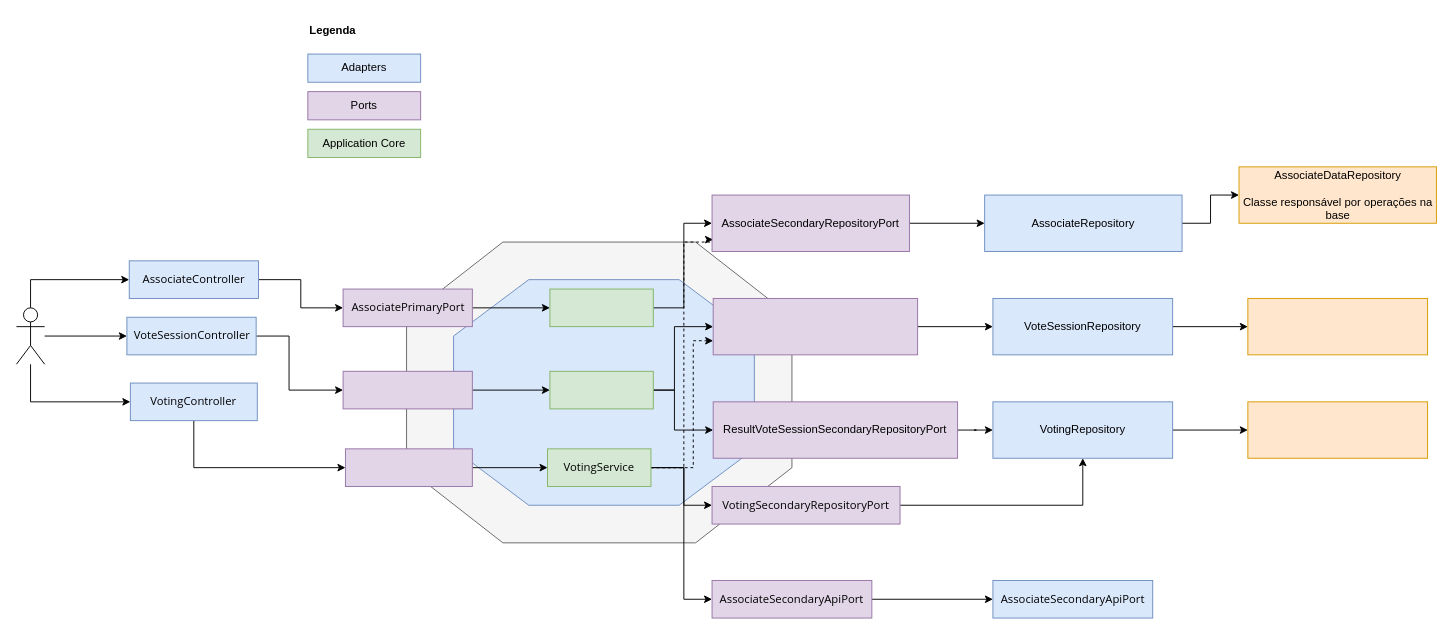
Image size: 1453x635. Some labels were removed from this diagram. Here are the shapes that lost their labels. From the top down, the centre of each, then its label:
At point 601,307: "AssociateService".
At point 815,326: "VoteSessionSecondaryRepositoryPort".
At point 1337,326: "VoteSessionDataRepository Classe responsável por operações na base".
At point 30,335: "Actor".
At point 407,389: "VoteSessionPrimaryPort".
At point 601,389: "VoteSessionService".
At point 1337,429: "VotingDataRepository Classe responsável por operações na base".
At point 408,467: "VotingPrimaryPort".
